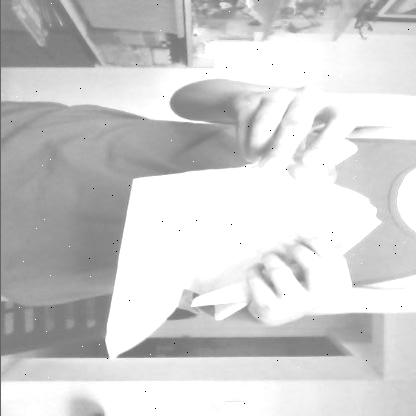Plastic Bottle: (179, 133, 360, 244)
